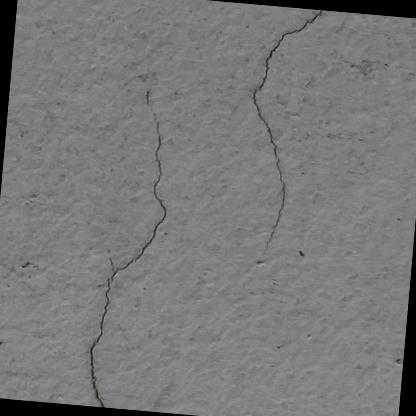crack: (83, 98, 172, 409), (247, 9, 328, 240)
